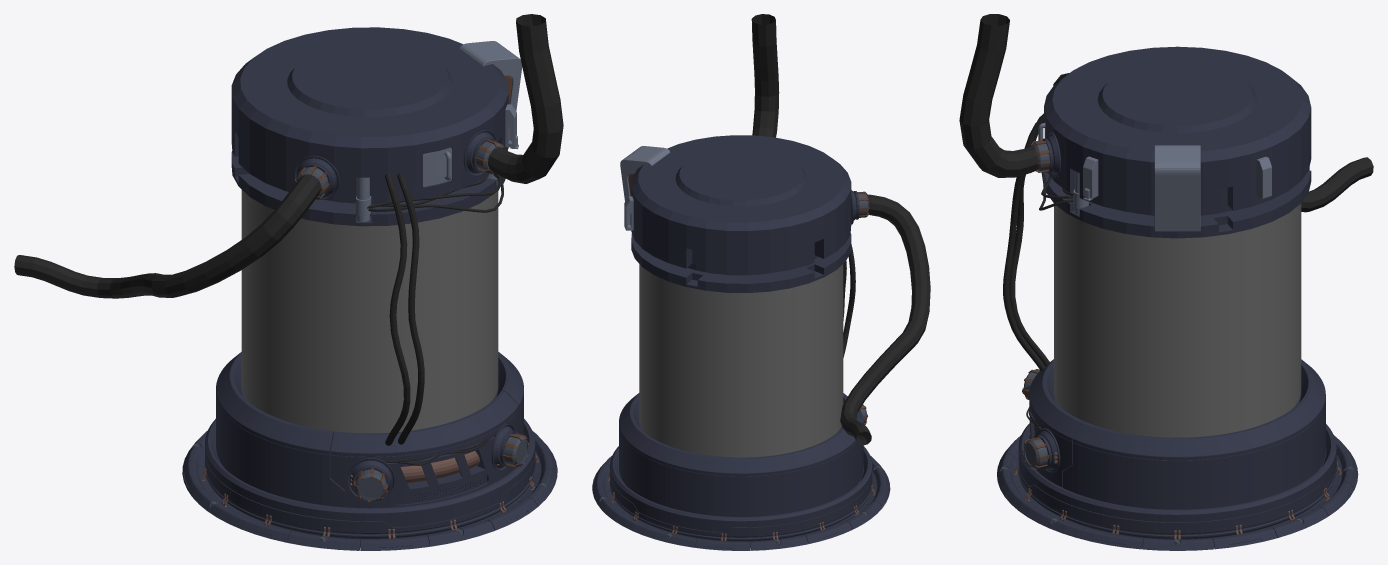
3 views of the same model, side by side, from view 1: azimuth 30°, elevation 25°; view 2: azimuth 150°, elevation 25°; view 3: azimuth 270°, elevation 25° (orthographic). The views are drawn at different scales.
Visible parts, largest first — view 1: Cylinder.008, 柱体.036, Cylinder.014, Cylinder.015, Cylinder.012, Point.001, 柱体.035, Point.004, Point.003, Point.002, 柱体.030, 立方体.005 (+5 smaller); view 2: Cylinder.008, 柱体.036, Cylinder.014, Cylinder.015, Point.001, Cylinder.012, 柱体.035, Point.004, 立方体.005, Point.003, 柱体.037; view 3: Cylinder.008, 柱体.036, Cylinder.014, Cylinder.015, Cylinder.012, 柱体.035, Point.004, 立方体.005, Point.002, Point.001, 立方体.009, Point.003 (+2 smaller).
Boxes of the visible parts, left/top/right/bottom form: Cylinder.008: left=241, top=190, right=498, bottom=433; 柱体.036: left=231, top=27, right=508, bottom=226; Cylinder.014: left=216, top=395, right=523, bottom=508; Cylinder.015: left=205, top=419, right=535, bottom=538; Cylinder.012: left=216, top=352, right=523, bottom=456; Point.001: left=14, top=174, right=321, bottom=298; 柱体.035: left=182, top=430, right=557, bottom=550; Point.004: left=488, top=14, right=563, bottom=183; Point.003: left=385, top=173, right=410, bottom=445; Point.002: left=397, top=172, right=424, bottom=444; 柱体.030: left=347, top=458, right=394, bottom=503; 立方体.005: left=459, top=41, right=522, bottom=110; Cylinder.008: left=639, top=264, right=843, bottom=457; 柱体.036: left=631, top=135, right=851, bottom=292; Cylinder.014: left=619, top=428, right=863, bottom=516; Cylinder.015: left=610, top=446, right=872, bottom=541; Point.001: left=840, top=194, right=930, bottom=445; Cylinder.012: left=619, top=393, right=863, bottom=476; 柱体.035: left=592, top=455, right=890, bottom=550; Point.004: left=751, top=14, right=779, bottom=137; 立方体.005: left=620, top=146, right=670, bottom=201; Point.003: left=843, top=244, right=855, bottom=357; 柱体.037: left=851, top=190, right=869, bottom=224; Cylinder.008: left=1054, top=203, right=1301, bottom=437; 柱体.036: left=1044, top=46, right=1311, bottom=238; Cylinder.014: left=1029, top=398, right=1325, bottom=509; Cylinder.015: left=1018, top=423, right=1336, bottom=539; Cylinder.012: left=1029, top=359, right=1325, bottom=460; 柱体.035: left=997, top=435, right=1358, bottom=550; Point.004: left=959, top=14, right=1038, bottom=177; 立方体.005: left=1154, top=145, right=1200, bottom=231; Point.002: left=1003, top=115, right=1045, bottom=371; Point.001: left=1053, top=73, right=1373, bottom=212; 立方体.009: left=1083, top=156, right=1271, bottom=200; Point.003: left=1009, top=113, right=1049, bottom=366.
Bounding box in the file's own units: 3.79 × 4.34 × 3.34.
